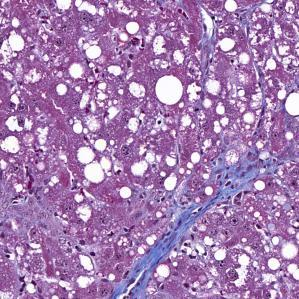fibrosis: (179, 147, 283, 221)
